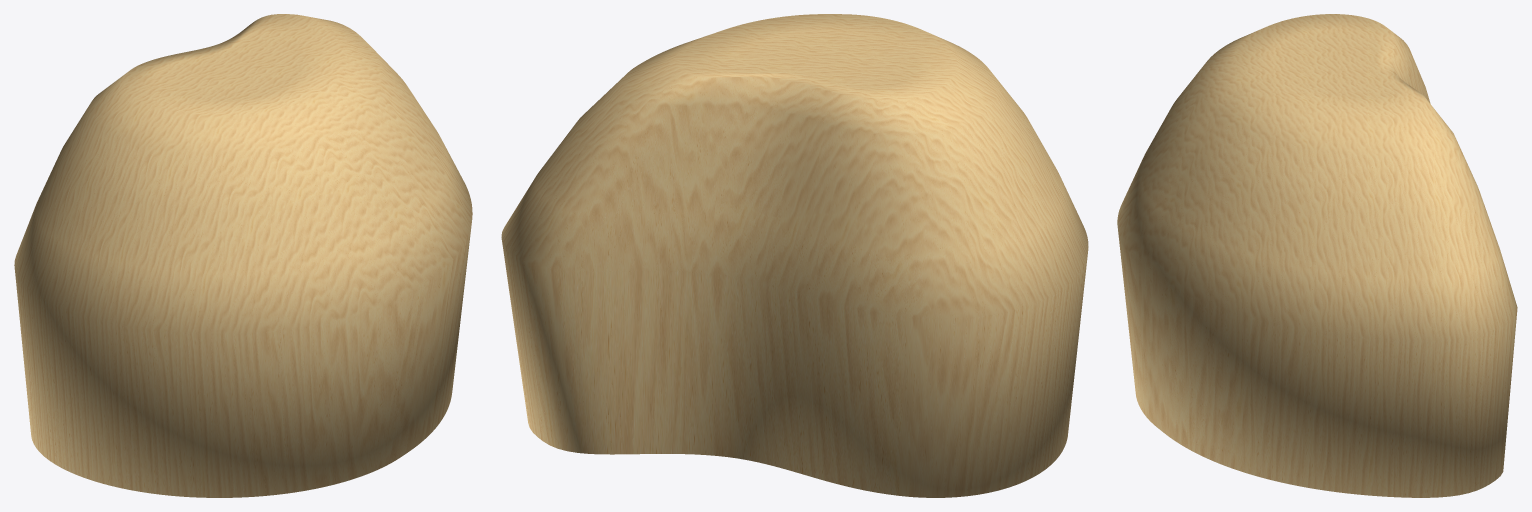
The model's file is central-bay-island-seed-top-v1.glb.
3 views of the same model, side by side, from view 1: azimuth 30°, elevation 25°; view 2: azimuth 150°, elevation 25°; view 3: azimuth 270°, elevation 25° (orthographic). The views are drawn at different scales.
Visible parts, largest first — view 1: BeachIsland; view 2: BeachIsland; view 3: BeachIsland.
Part boxes in pixels (x1=…): BeachIsland: x1=14, y1=14, x2=472, y2=497; BeachIsland: x1=501, y1=14, x2=1088, y2=497; BeachIsland: x1=1117, y1=14, x2=1517, y2=497.
Size of what is drawn, in the model's own units: 1.04 by 0.75 by 0.8263.
1 material, 1 textured.
